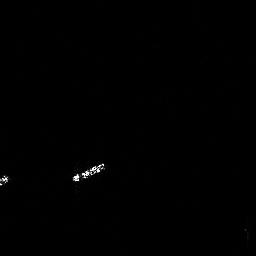ship: (70, 161, 105, 182)
